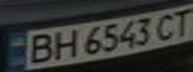3: (133, 15, 160, 46)
4: (118, 18, 139, 50)
5: (100, 20, 124, 53)
6: (81, 24, 106, 56)
B: (21, 32, 57, 65)
C: (151, 10, 181, 42)
H: (48, 27, 81, 61)
T: (166, 6, 193, 37)
